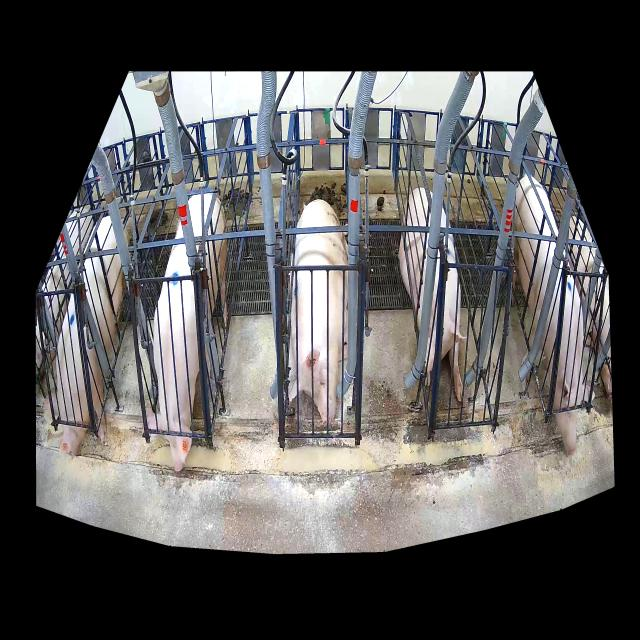pig: (513, 176, 595, 455), (147, 193, 227, 472), (45, 217, 124, 456), (399, 187, 467, 401), (289, 199, 348, 426)
